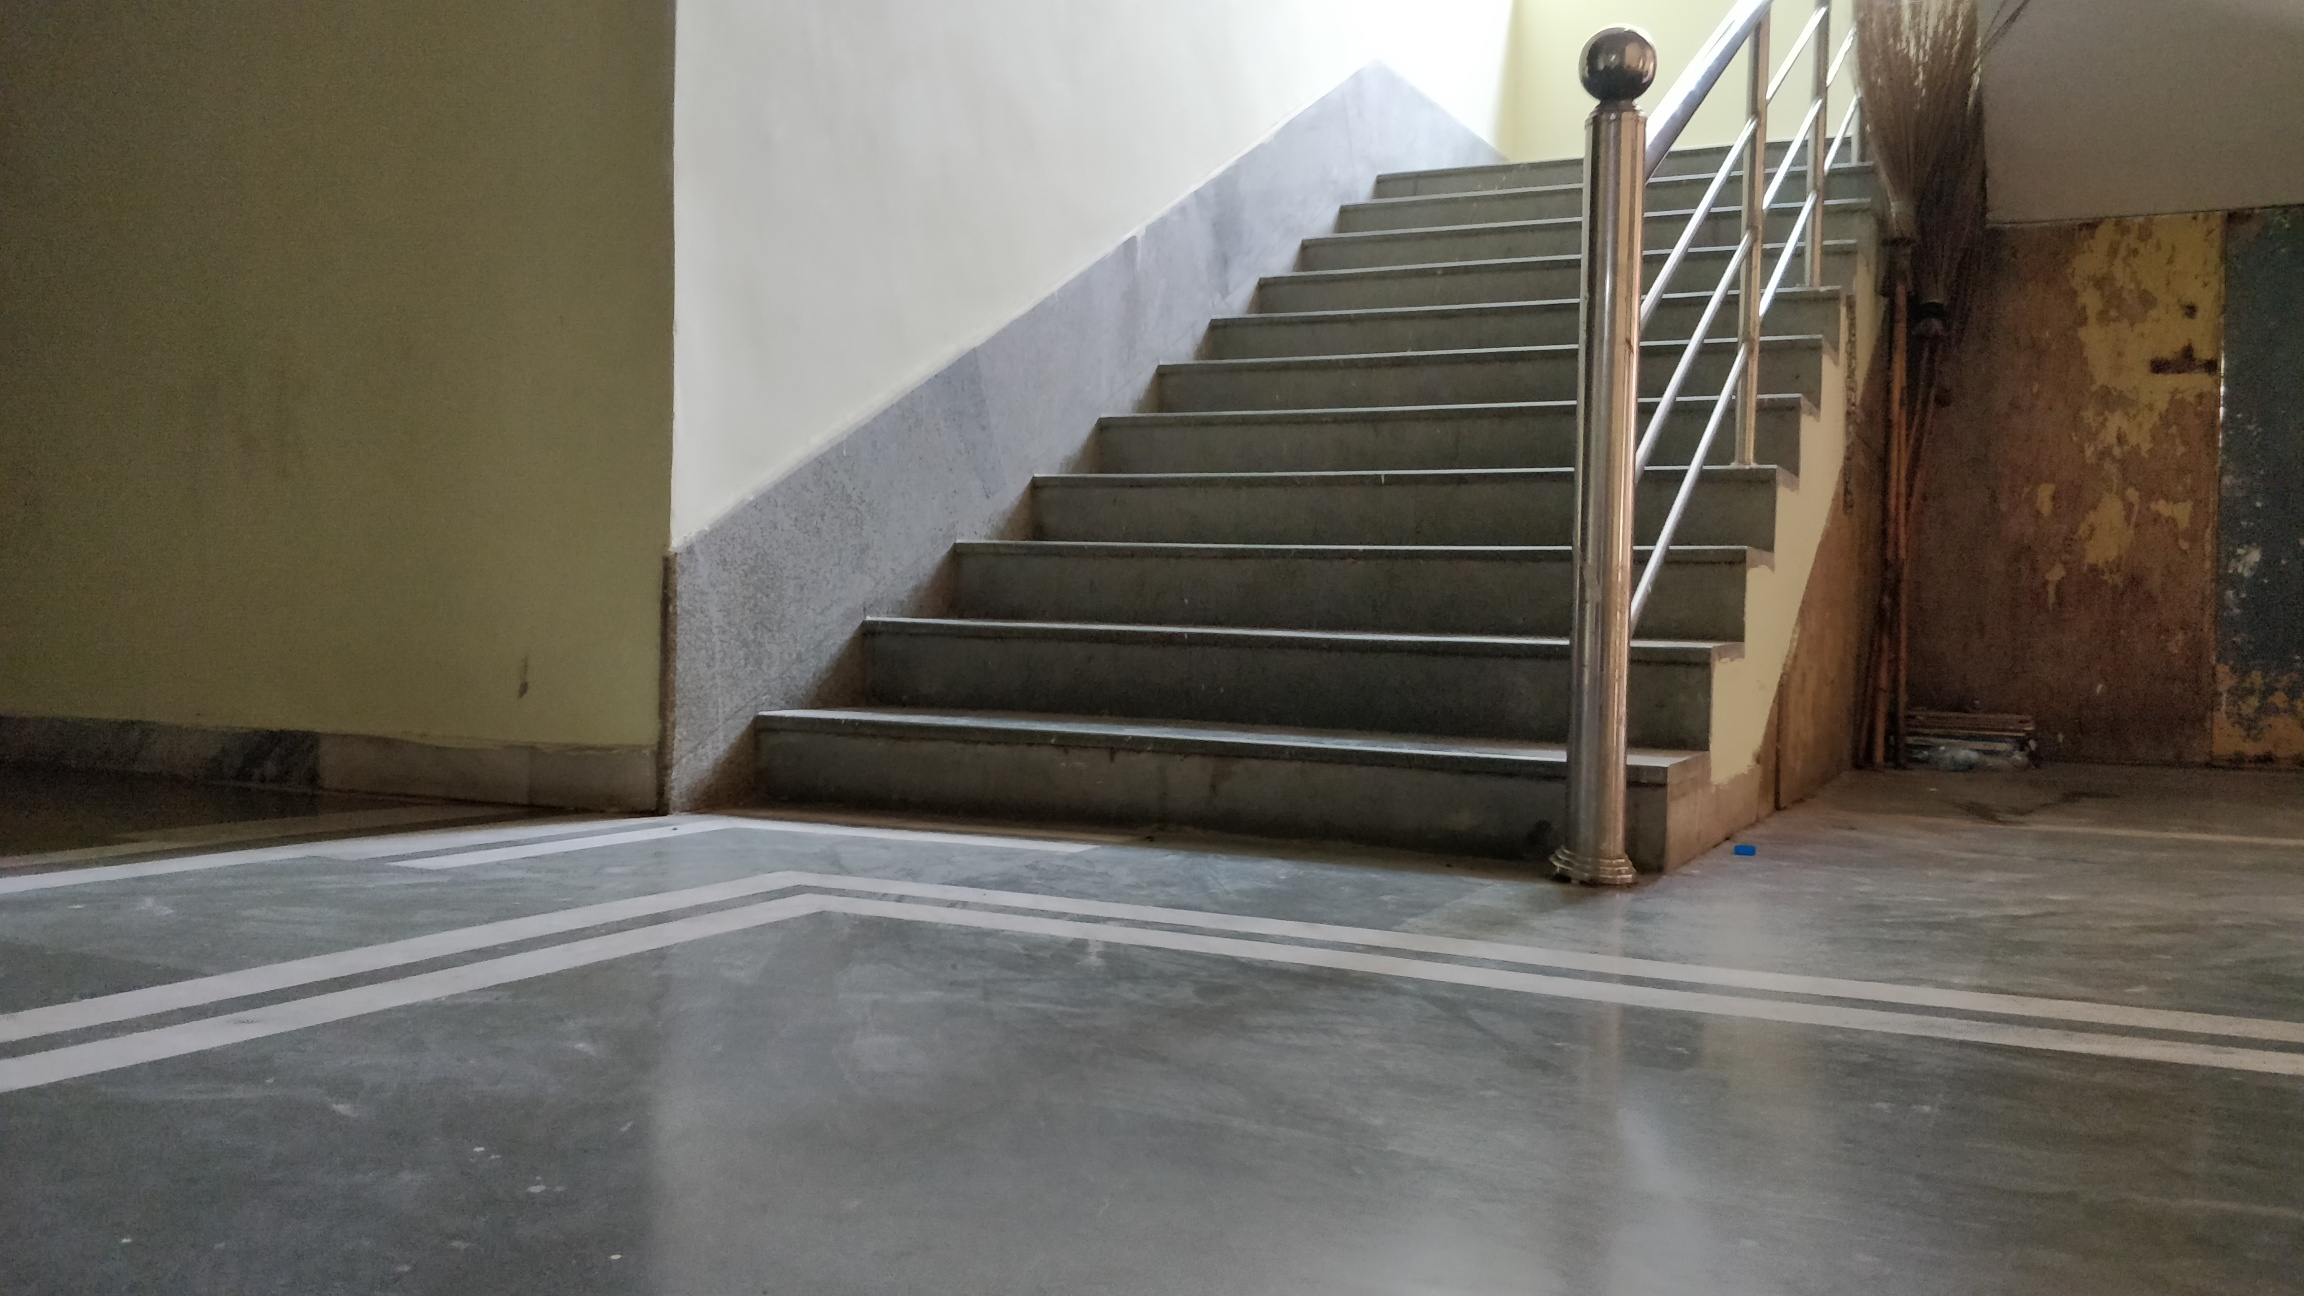stairs_up: (741, 93, 1881, 878)
